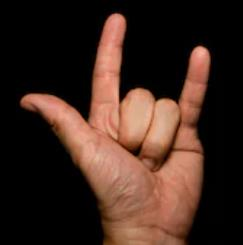back: (15, 9, 217, 225)
